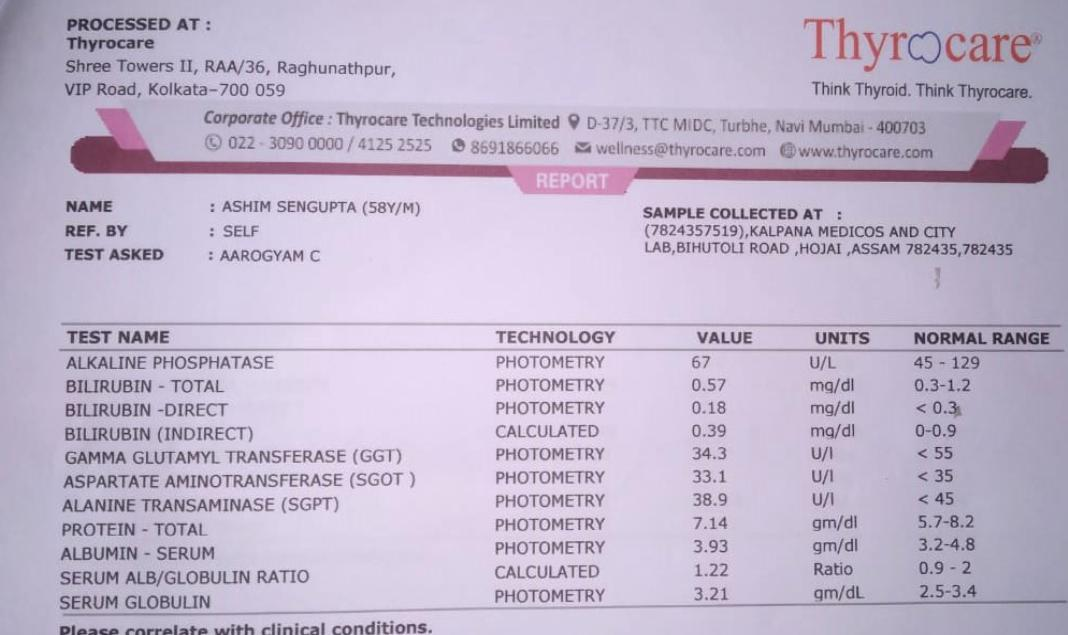Reference Range: (905, 349, 987, 604)
Test Name: (50, 349, 421, 617)
Units: (801, 349, 874, 606)
Value: (681, 349, 745, 608)
